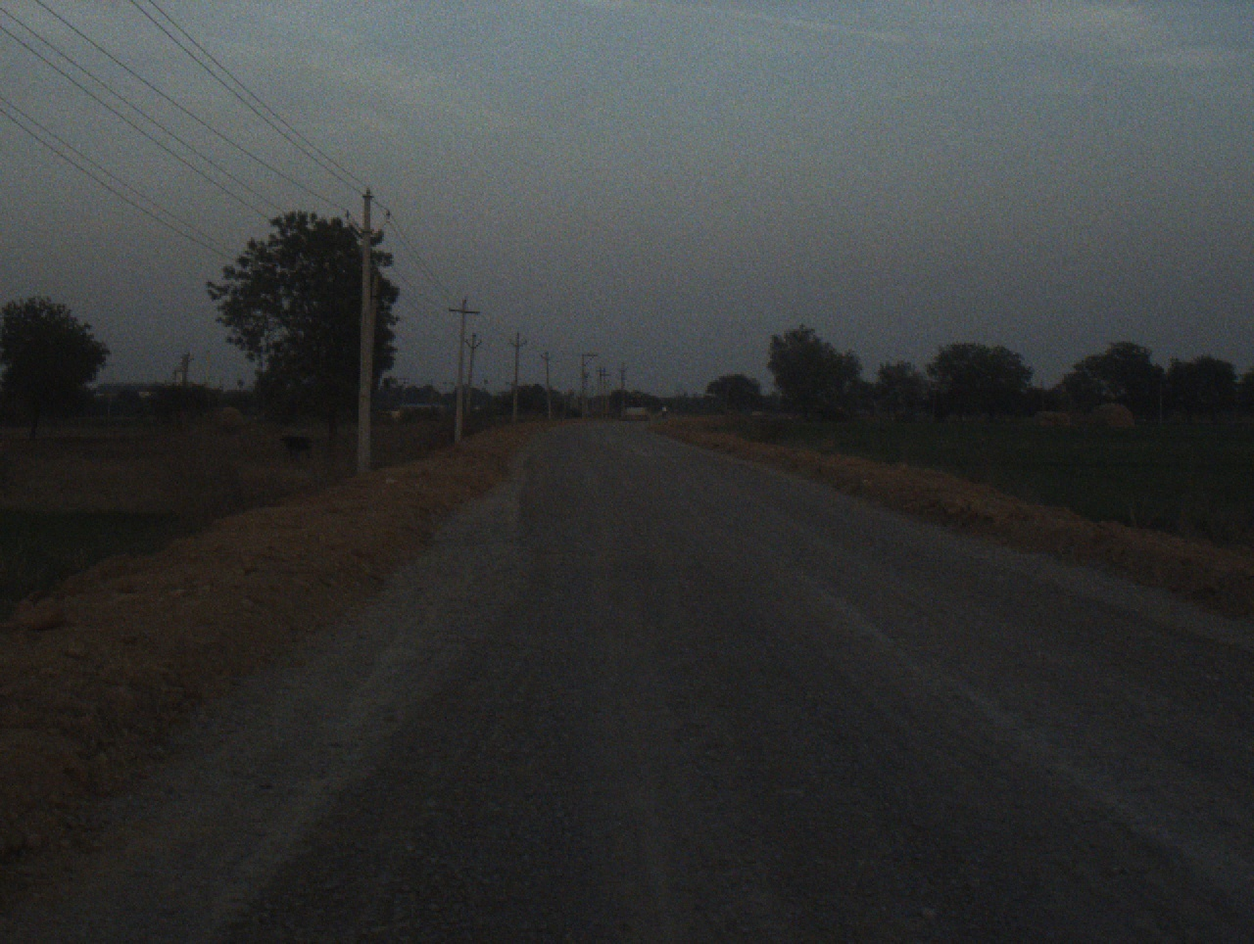vehicle fallback: (611, 388, 654, 422)
